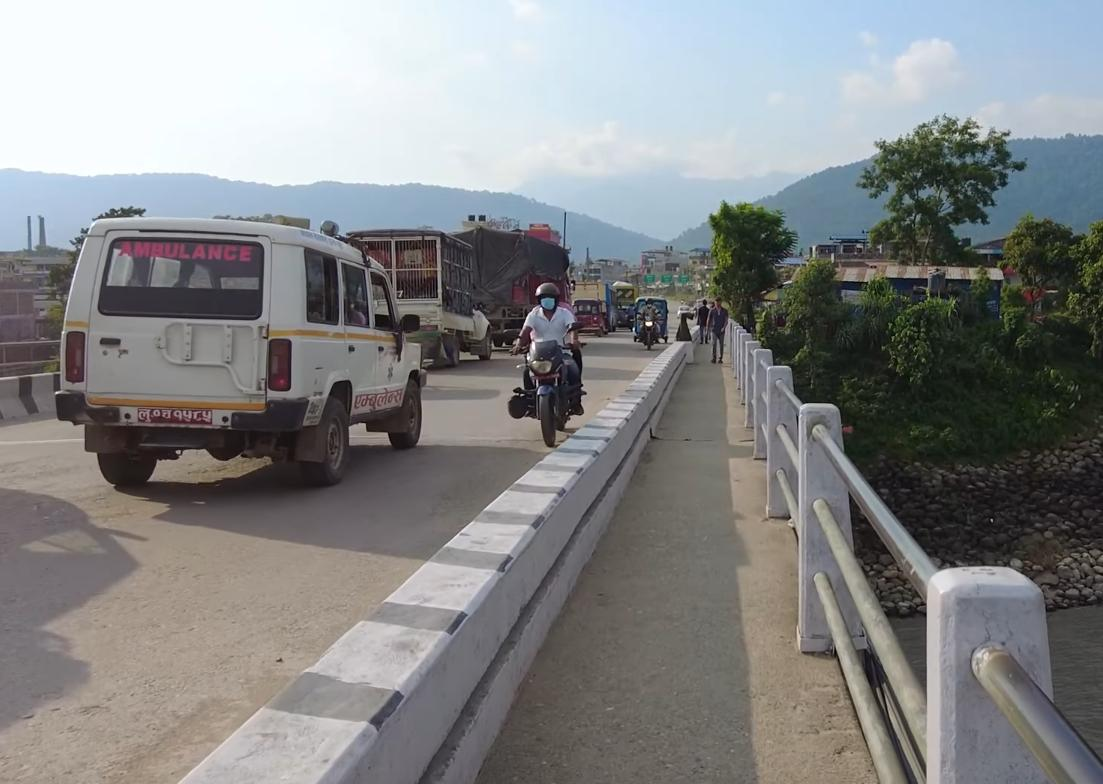ambulance: (51, 207, 428, 497)
bike: (516, 335, 586, 456)
transport_vehicle: (338, 225, 498, 363)
